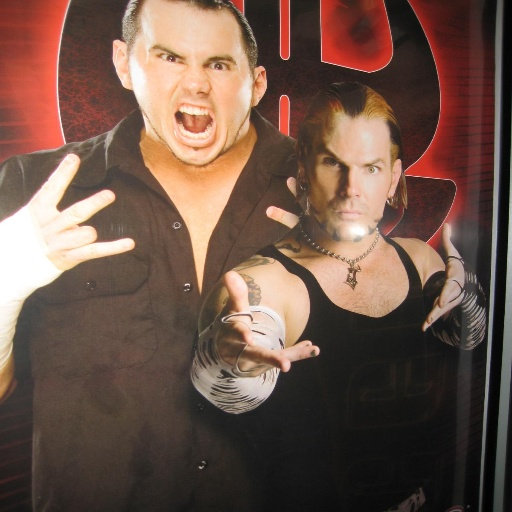hand: (11, 154, 111, 279), (209, 268, 321, 378), (419, 220, 468, 332), (264, 177, 309, 228)
